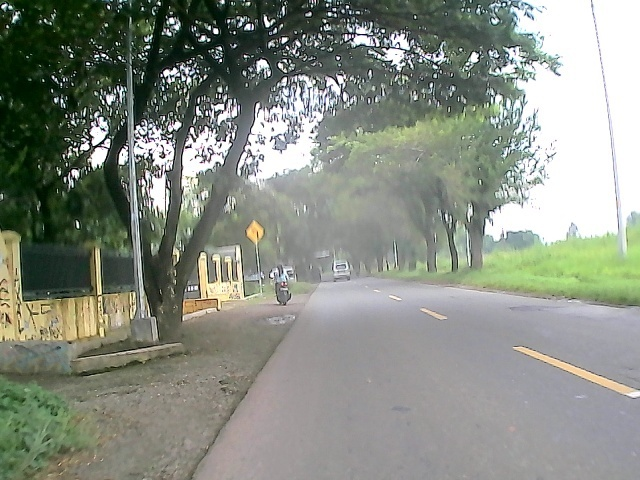Tikungan ke kiri: (244, 218, 267, 244)
